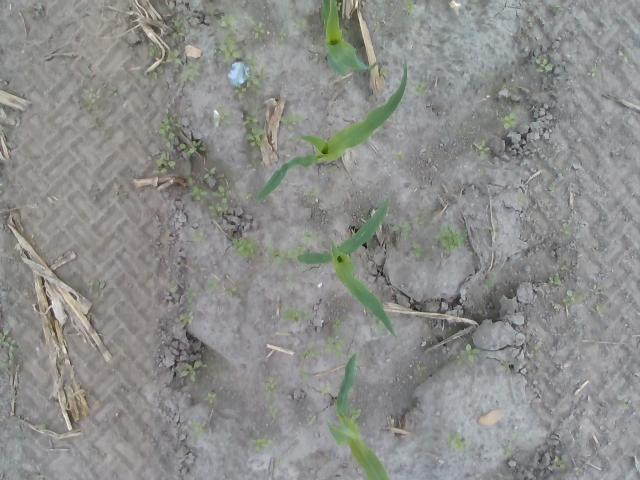Maize: (253, 59, 409, 204), (296, 199, 398, 339), (328, 351, 391, 480), (314, 0, 372, 76)
Weeds: (155, 112, 209, 175), (187, 167, 230, 218), (212, 14, 239, 64), (164, 16, 186, 66), (268, 242, 312, 266), (434, 222, 466, 253), (243, 111, 265, 146), (0, 326, 17, 370), (452, 342, 482, 366), (394, 214, 428, 234), (234, 236, 262, 258), (279, 108, 305, 131), (243, 56, 260, 88), (178, 360, 202, 382), (206, 280, 238, 296), (264, 391, 282, 419), (188, 416, 208, 440), (448, 430, 468, 452), (283, 308, 310, 324), (324, 333, 342, 357), (501, 110, 522, 130), (501, 434, 518, 458), (532, 55, 554, 73), (549, 454, 569, 472), (562, 288, 584, 304), (84, 86, 100, 107), (183, 63, 201, 81), (252, 20, 266, 43), (254, 437, 274, 452), (412, 241, 427, 260), (262, 378, 280, 392), (296, 366, 310, 384), (478, 139, 490, 159), (232, 85, 248, 100), (514, 192, 528, 207), (558, 223, 574, 236), (412, 83, 428, 96), (148, 43, 160, 60), (192, 230, 210, 241), (300, 350, 322, 359), (588, 284, 602, 298), (416, 362, 428, 378), (180, 312, 192, 328), (622, 398, 634, 414), (591, 304, 604, 318), (294, 16, 306, 31), (206, 391, 218, 406), (402, 0, 414, 14), (482, 276, 496, 288), (548, 274, 562, 286), (390, 150, 405, 161), (618, 48, 629, 63), (320, 381, 331, 395), (488, 224, 498, 239), (302, 189, 320, 197), (184, 288, 193, 304), (242, 192, 256, 202), (304, 414, 316, 425), (218, 110, 230, 120), (588, 67, 598, 79), (134, 71, 146, 80), (278, 30, 288, 40), (109, 87, 118, 98), (526, 16, 534, 28), (333, 318, 342, 328), (302, 232, 312, 239), (474, 472, 482, 480)
